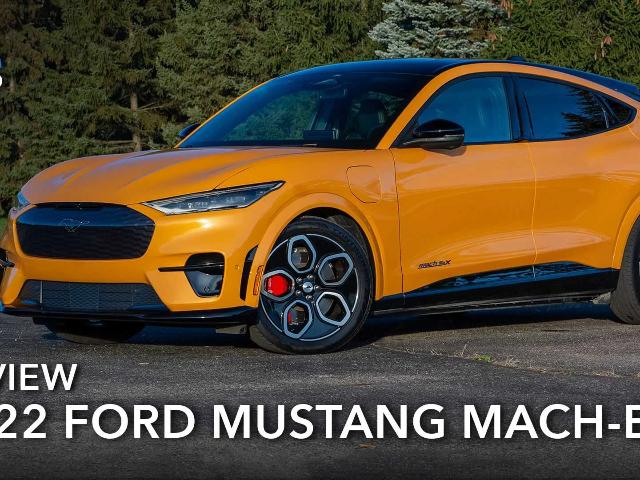ford-mustang: (0, 56, 640, 354)
